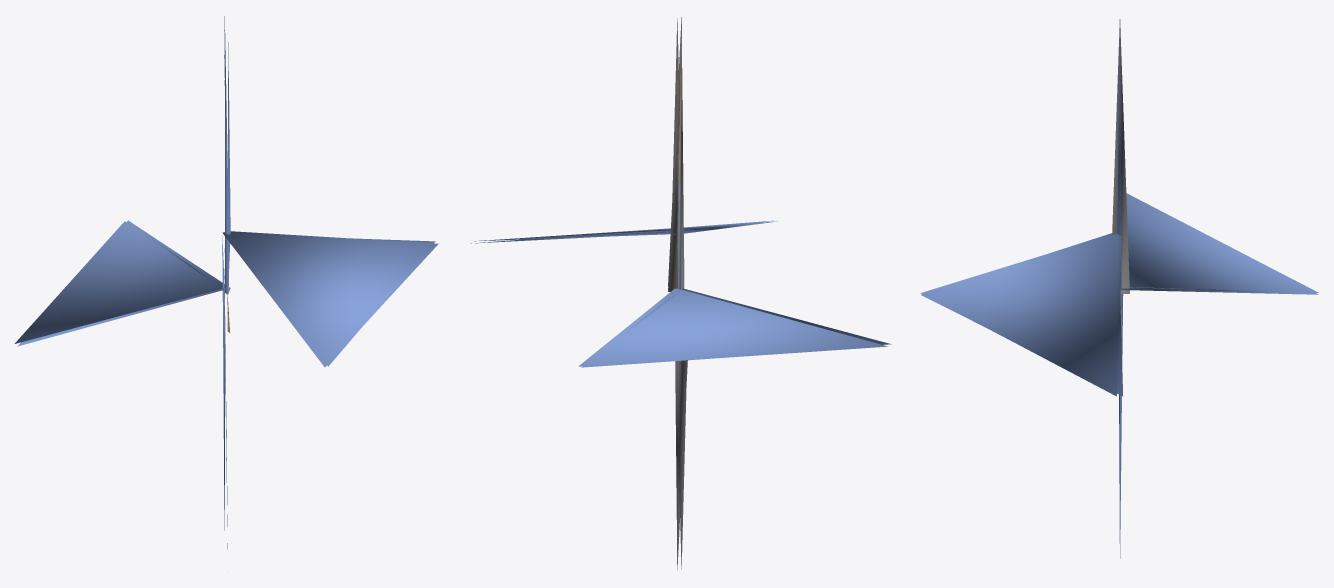
The model's file is equip_weapon_rune_longsword.glb.
3 renders of one model, left to right at view 1: azimuth 30°, elevation 25°; view 2: azimuth 150°, elevation 25°; view 3: azimuth 270°, elevation 25°, orthographic.
Parts seen in each view (by area): view 1: equip_weapon_rune_longsword; view 2: equip_weapon_rune_longsword; view 3: equip_weapon_rune_longsword.
Boxes of the visible parts, bbox=[...] form: equip_weapon_rune_longsword: bbox=[14, 16, 438, 549]; equip_weapon_rune_longsword: bbox=[470, 17, 891, 570]; equip_weapon_rune_longsword: bbox=[920, 19, 1318, 558].
Size of the model in its own units: 1.8 by 2.28 by 1.48.
